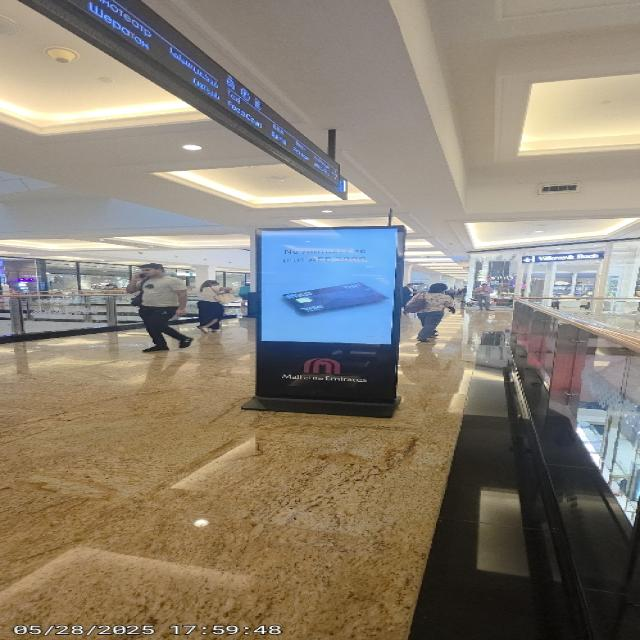mupi: (257, 222, 413, 409)
